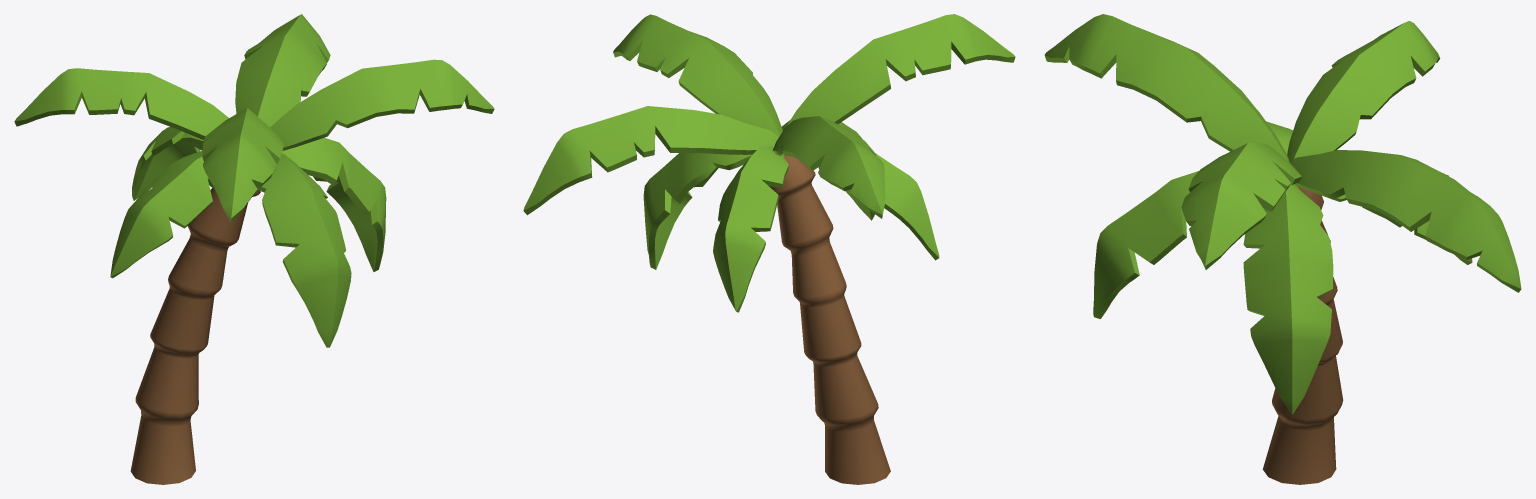
The model's file is Palm Tree3.glb.
3 views of the same model, side by side, from view 1: azimuth 30°, elevation 25°; view 2: azimuth 150°, elevation 25°; view 3: azimuth 270°, elevation 25° (orthographic). The views are drawn at different scales.
Visible parts, largest first — view 1: Environment_PalmTree_2; view 2: Environment_PalmTree_2; view 3: Environment_PalmTree_2.
Part boxes in pixels (x1,y1,x2,y2): Environment_PalmTree_2: (14,14,494,484); Environment_PalmTree_2: (523,14,1015,484); Environment_PalmTree_2: (1044,14,1521,484).
Bounding box in the file's own units: 2.64 × 2.69 × 2.58.
1 material, 1 textured.
